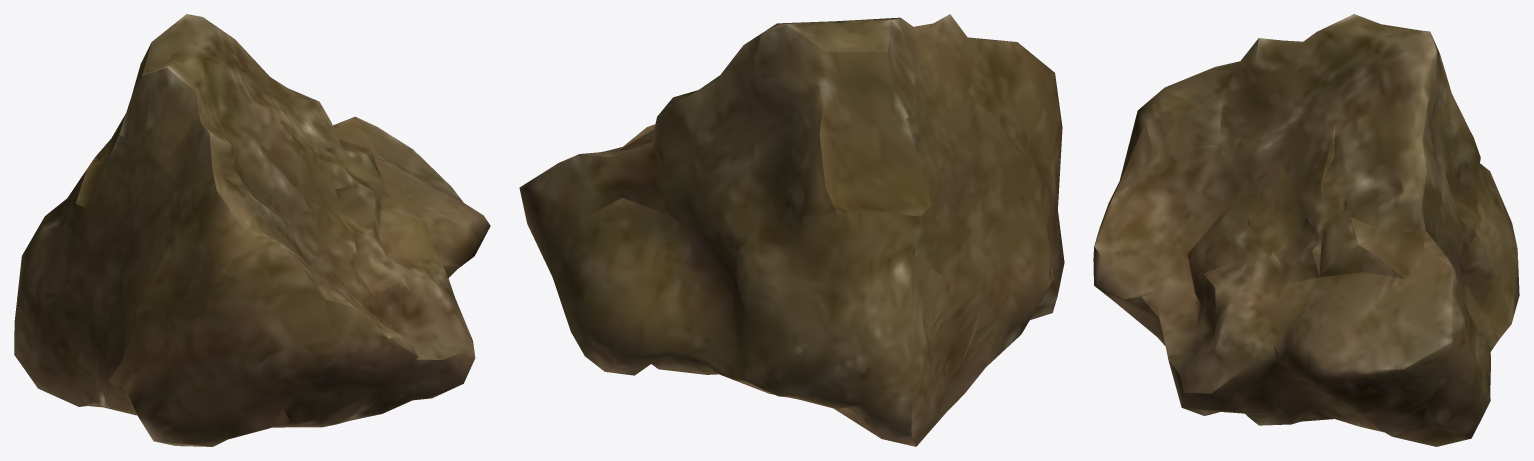
The model's file is rock_set_4.glb.
3 views of the same model, side by side, from view 1: azimuth 30°, elevation 25°; view 2: azimuth 150°, elevation 25°; view 3: azimuth 270°, elevation 25° (orthographic). The views are drawn at different scales.
Visible parts, largest first — view 1: rock_set_4; view 2: rock_set_4; view 3: rock_set_4.
Boxes of the visible parts, <box> form: rock_set_4: <box>14,14,490,446</box>; rock_set_4: <box>519,14,1064,446</box>; rock_set_4: <box>1093,14,1519,446</box>.
Size of the model in its own units: 2.14 by 1.76 by 1.96.
1 material, 1 textured.
